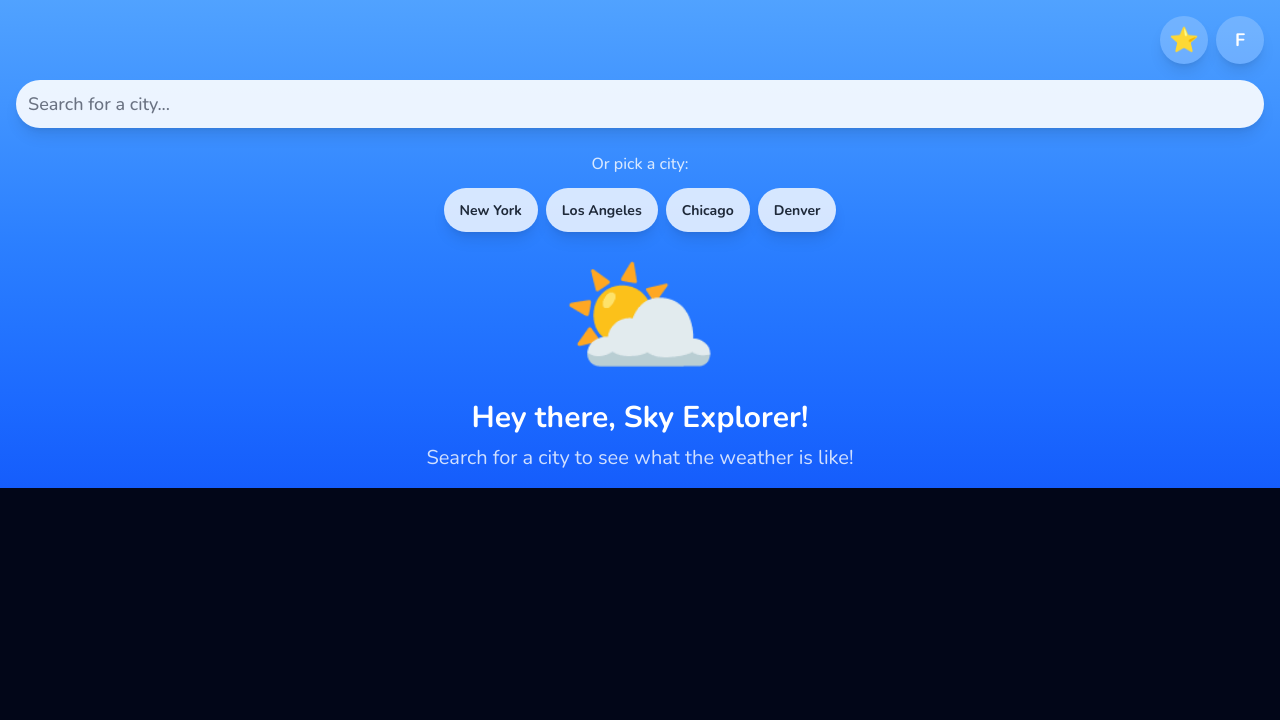
Weather › asks the geocoding service once per query, not again on every store change
The image size is (1280, 720).
Type "bos" into the field with placeholder "Search for a city..." at {"x": 640, "y": 104}, box 16,80 -> 1264,128
Wait 5000 ms
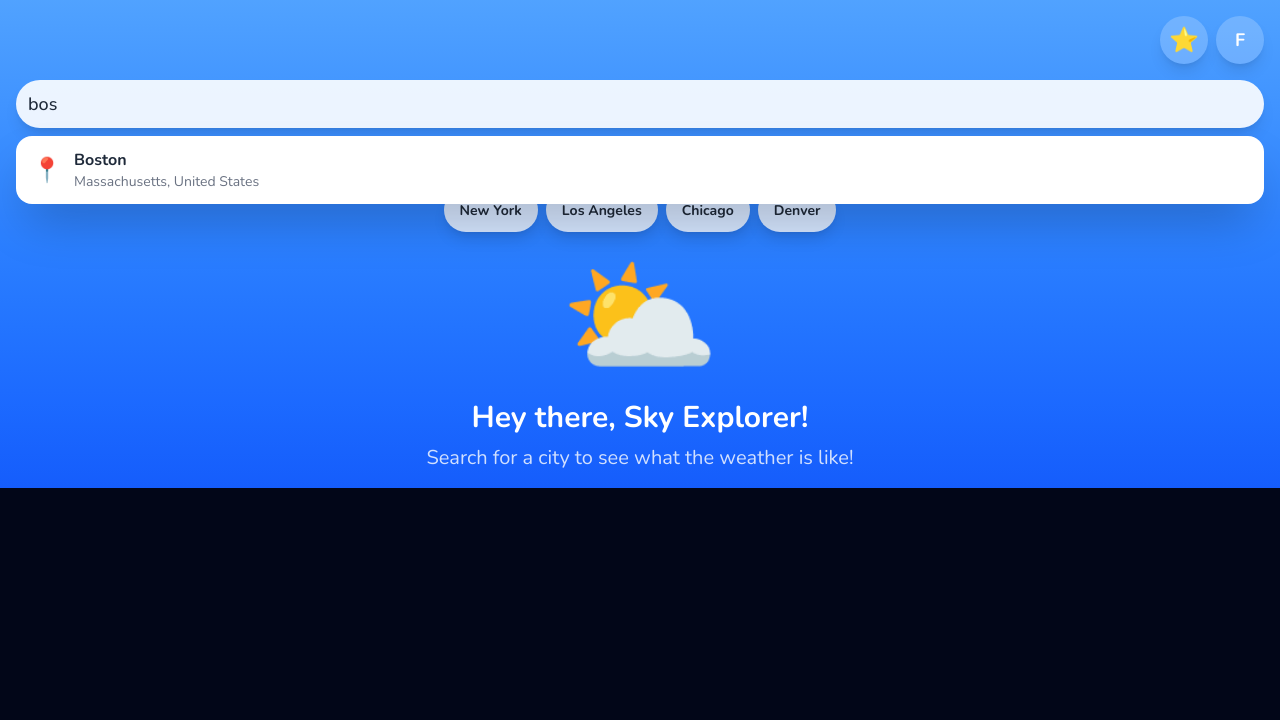
expect the text "Boston" is shown: met, box 74,149 -> 126,171
